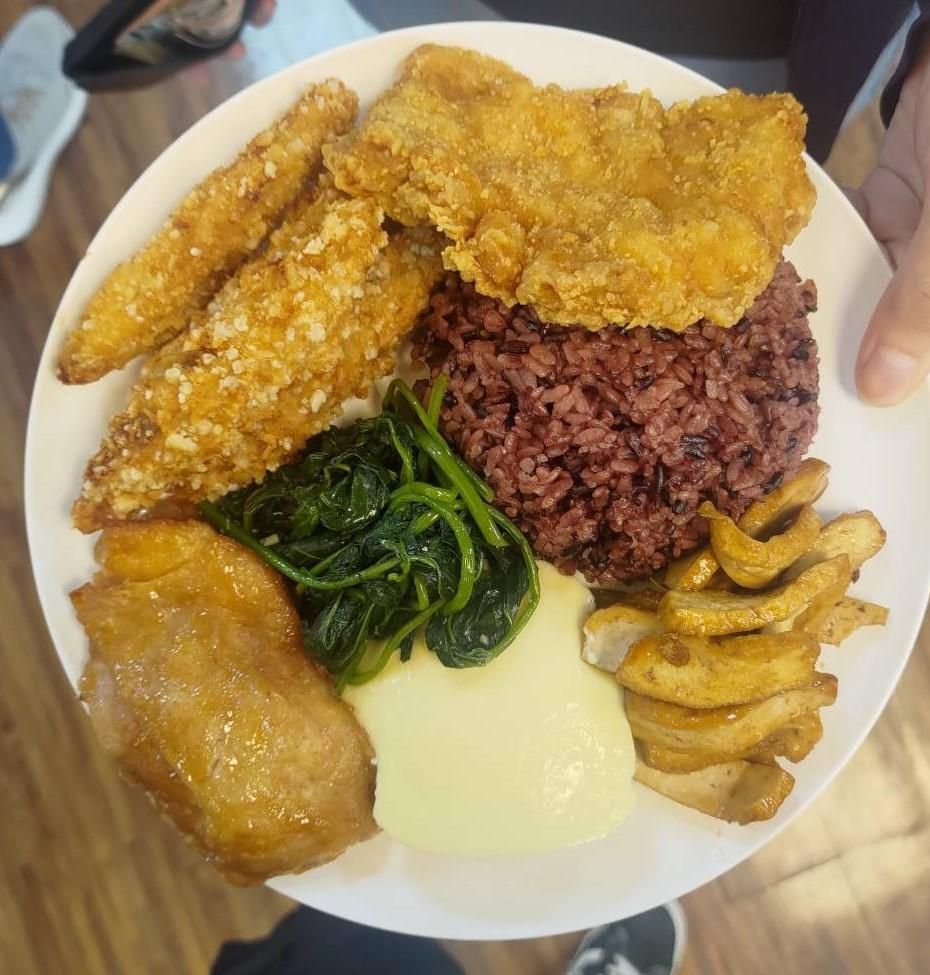big fried chicken leg: (18, 8, 930, 949)
braised fish: (428, 212, 814, 595)
braised fish fillet: (590, 452, 880, 839), (230, 375, 542, 672)
braised pork: (58, 74, 446, 525), (342, 28, 832, 330), (70, 524, 371, 877)
